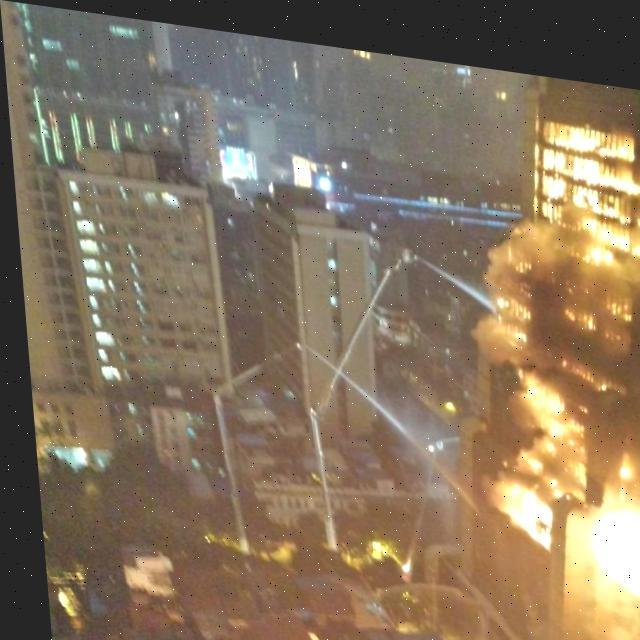Fire: (465, 94, 639, 600)
